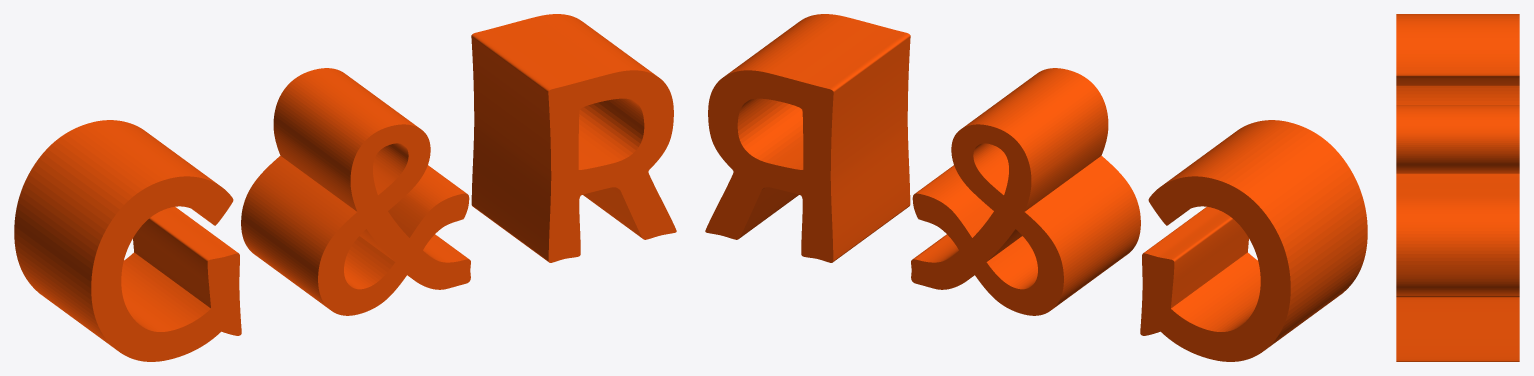
Rendered from tITLE.fbx.
The picture shows the model from 3 angles, left to right: view 1: azimuth 30°, elevation 25°; view 2: azimuth 150°, elevation 25°; view 3: azimuth 270°, elevation 25°; orthographic projection. The views are drawn at different scales.
Visible parts, largest first — view 1: Text.004, Text.002, Text.003; view 2: Text.004, Text.002, Text.003; view 3: Text.002, Text.004, Text.003.
Part boxes in pixels (x1,y1,x2,y2): Text.004: [14, 120, 241, 361]; Text.002: [471, 14, 676, 262]; Text.003: [241, 68, 470, 315]; Text.004: [1140, 120, 1367, 361]; Text.002: [705, 14, 910, 262]; Text.003: [911, 68, 1140, 315]; Text.002: [1396, 173, 1519, 361]; Text.004: [1396, 14, 1519, 104]; Text.003: [1396, 105, 1519, 173].
Size of the model in its own units: 220 by 65.17 by 50.
